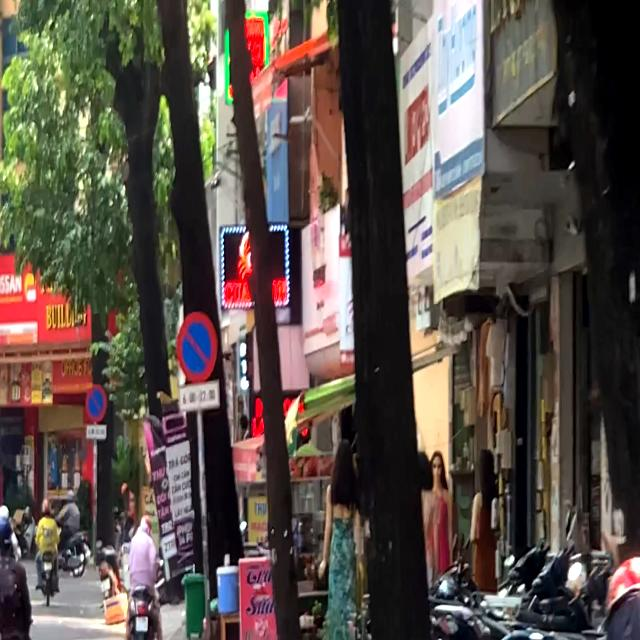P.131a: (177, 312, 218, 384), (85, 384, 107, 423)
